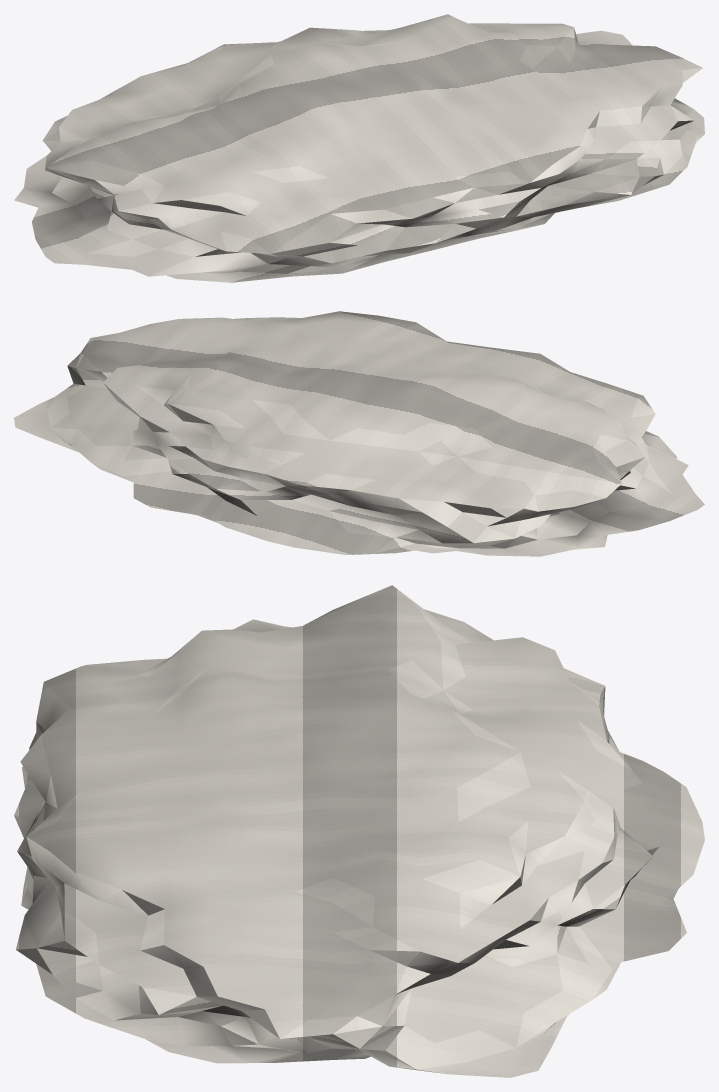
Rendered from towel_floor.glb.
3 renders of one model, top to bottom at view 1: azimuth 30°, elevation 25°; view 2: azimuth 150°, elevation 25°; view 3: azimuth 270°, elevation 25°, orthographic. The views are drawn at different scales.
Parts seen in each view (by area): view 1: body; view 2: body; view 3: body.
Boxes of the visible parts, x1,y1,x2,y2 form: body: [14, 14, 704, 282]; body: [14, 311, 704, 556]; body: [14, 585, 704, 1077].
Size of the model in its own units: 0.62 by 0.07 by 0.4.
Materials: 1 (1 with a texture image).
